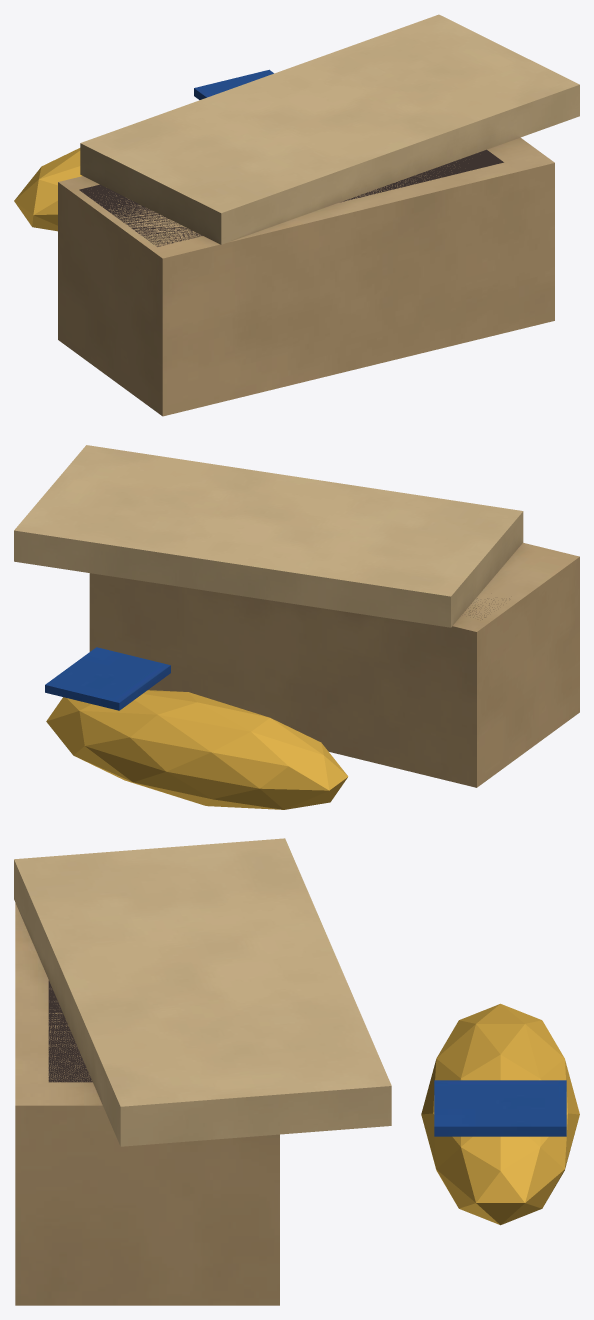
File: sarkofag_tex.glb
3 views of the same model, one above another, from view 1: azimuth 30°, elevation 25°; view 2: azimuth 150°, elevation 25°; view 3: azimuth 270°, elevation 25° (orthographic). The views are drawn at different scales.
Visible parts, largest first — view 1: sarkofag; view 2: sarkofag; view 3: sarkofag.
Boxes of the visible parts, x1,y1,x2,y2 form: sarkofag: [14, 14, 579, 416]; sarkofag: [14, 445, 579, 809]; sarkofag: [14, 838, 579, 1305].
Size of the model in its own units: 3.04 by 1.2 by 2.57.
Materials: 5 (3 with a texture image).
